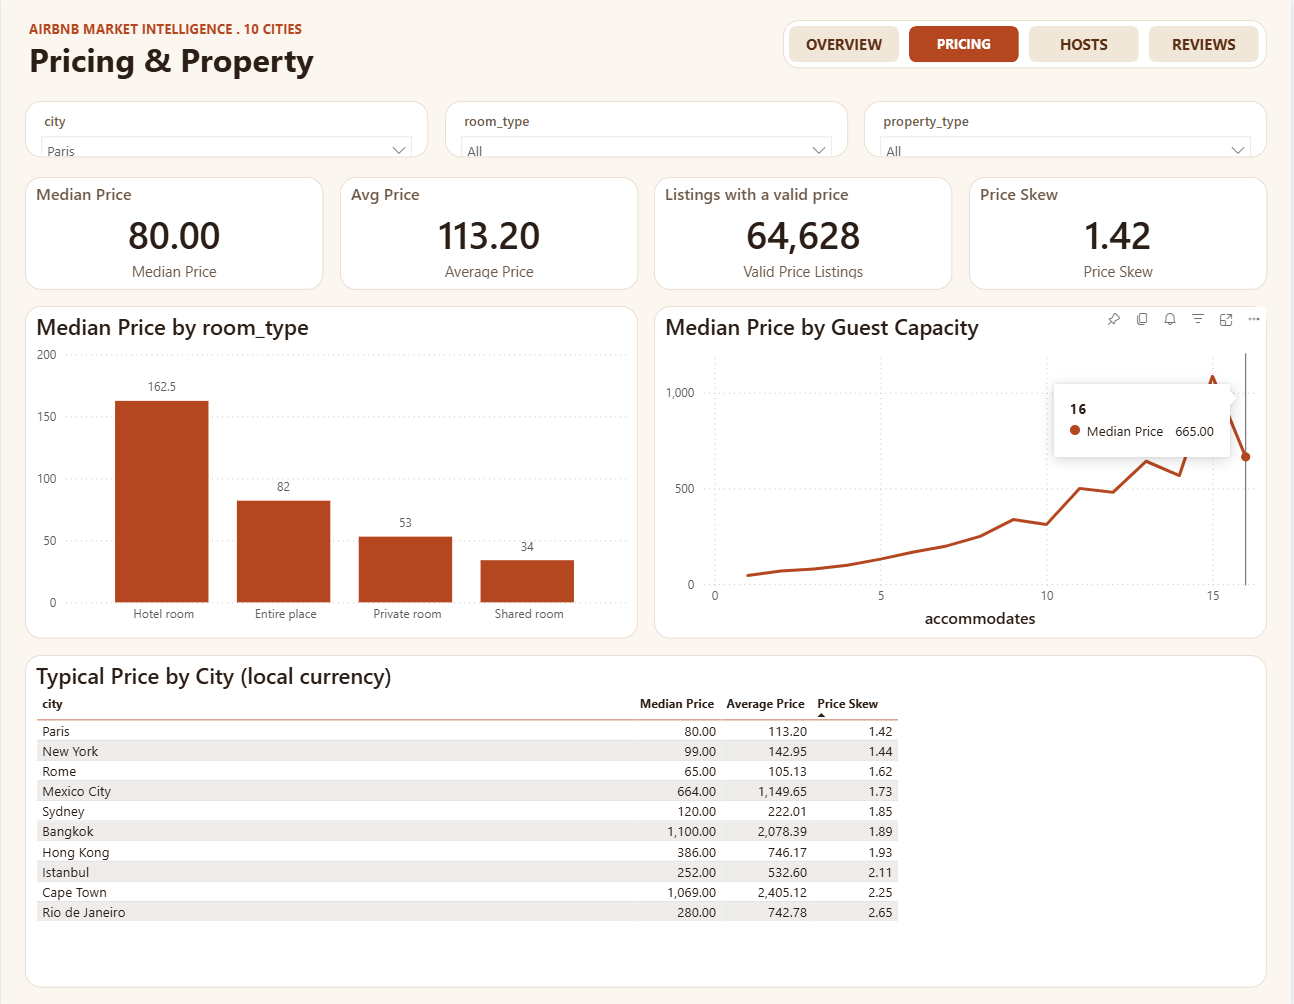

This screenshot's page, from the dashboard's own definition file:
{"tool":"powerbi","page":{"name":"PRICING","canvas":[1280,1000],"ordinal":1},"visuals":[{"type":"textbox","box":[24,16,600,72],"z":0},{"type":"pageNavigator","box":[776,20,480,48],"z":1000},{"type":"slicer","fields":{"Values":["Cities.city"]},"box":[24,100,400,56],"z":2000},{"type":"slicer","fields":{"Values":["Listings_clean.room_type"]},"box":[440,100,400,56],"z":3000},{"type":"slicer","fields":{"Values":["Listings_clean.property_type"]},"box":[856,100,400,56],"z":4000},{"type":"card","title":"Median Price","fields":{"Values":["Listings_clean.Median Price"]},"box":[24,176,296,112],"z":5000},{"type":"card","title":"Avg Price","fields":{"Values":["Listings_clean.Average Price"]},"box":[336,176,296,112],"z":6000},{"type":"card","title":"Listings with a valid price","fields":{"Values":["Listings_clean.Valid Price Listings"]},"box":[648,176,296,112],"z":7000},{"type":"card","title":"Price Skew","fields":{"Values":["Listings_clean.Price Skew"]},"box":[960,176,296,112],"z":8000},{"type":"clusteredColumnChart","fields":{"Y":["Listings_clean.Median Price"],"Category":["Listings_clean.room_type"]},"box":[24,304,608,330],"z":9000},{"type":"lineChart","title":"Median Price by Guest Capacity","fields":{"Category":["Listings_clean.accommodates"],"Y":["Listings_clean.Median Price"]},"box":[648,304,608,330],"z":10000},{"type":"tableEx","title":"Typical Price by City (local currency)","fields":{"Values":["Cities.city","Listings_clean.Median Price","Listings_clean.Average Price","Listings_clean.Price Skew"]},"box":[24,650,1232,330],"z":11000}]}

Visuals, with their boxes in screenshot pixels (x1, y1, x2, y2), scaled from the page's 1280x1000 canvas onto the 1294x1004 screenshot:
textbox: 24,16,631,88
pageNavigator: 784,20,1270,68
slicer - Cities.city: 24,100,429,157
slicer - Listings_clean.room_type: 445,100,849,157
slicer - Listings_clean.property_type: 865,100,1270,157
"Median Price" card: 24,177,324,289
"Avg Price" card: 340,177,639,289
"Listings with a valid price" card: 655,177,954,289
"Price Skew" card: 970,177,1270,289
clusteredColumnChart - Listings_clean.Median Price x Listings_clean.room_type: 24,305,639,637
"Median Price by Guest Capacity" lineChart: 655,305,1270,637
"Typical Price by City (local currency)" tableEx: 24,653,1270,984
